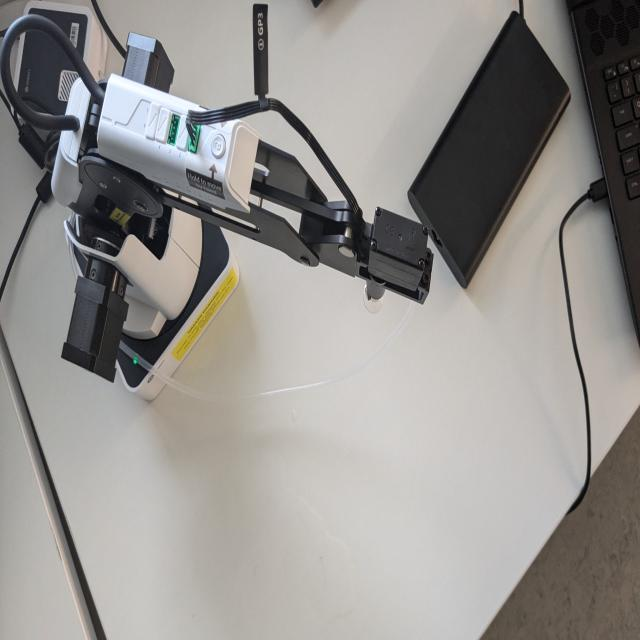Robot-end-effector-HF8z: (351, 203, 436, 315)
